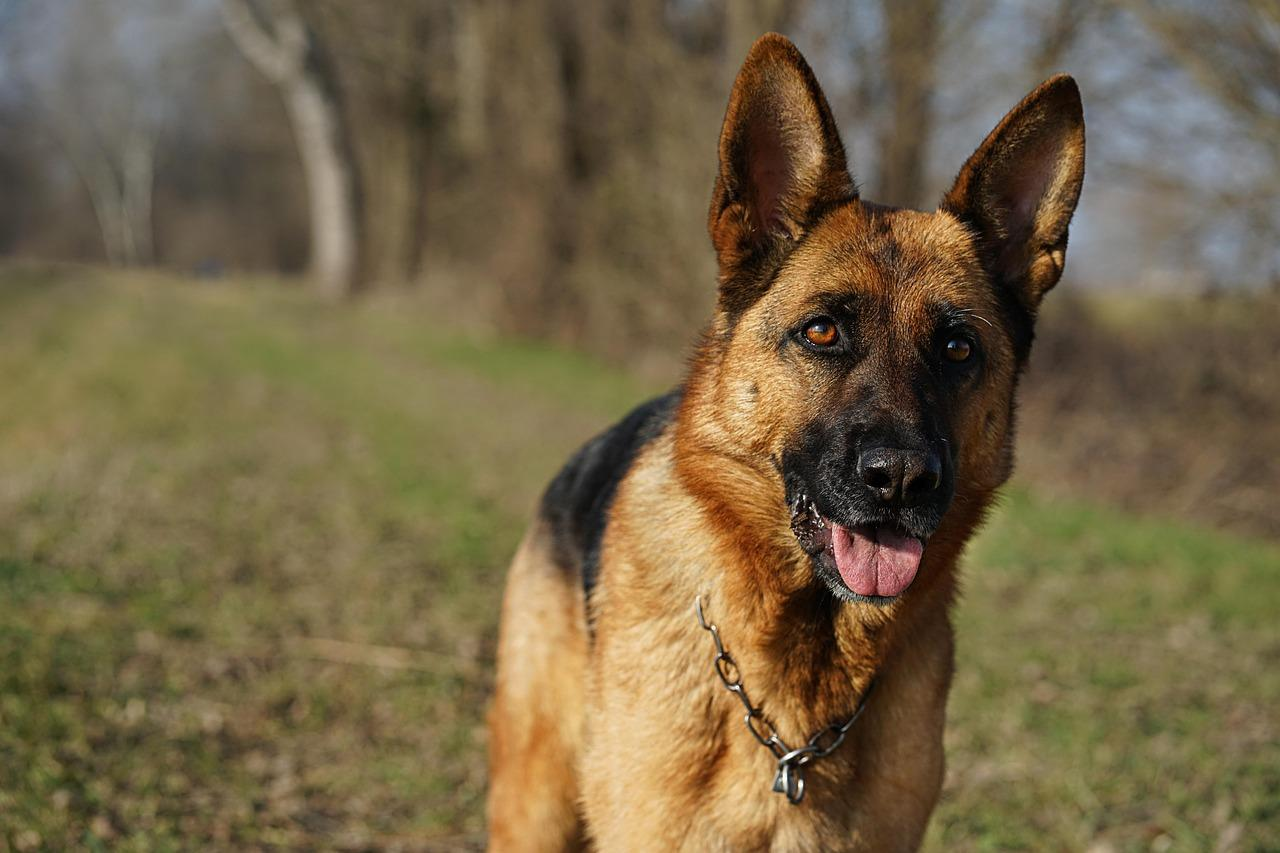german_shepherd: (716, 47, 1085, 658)
